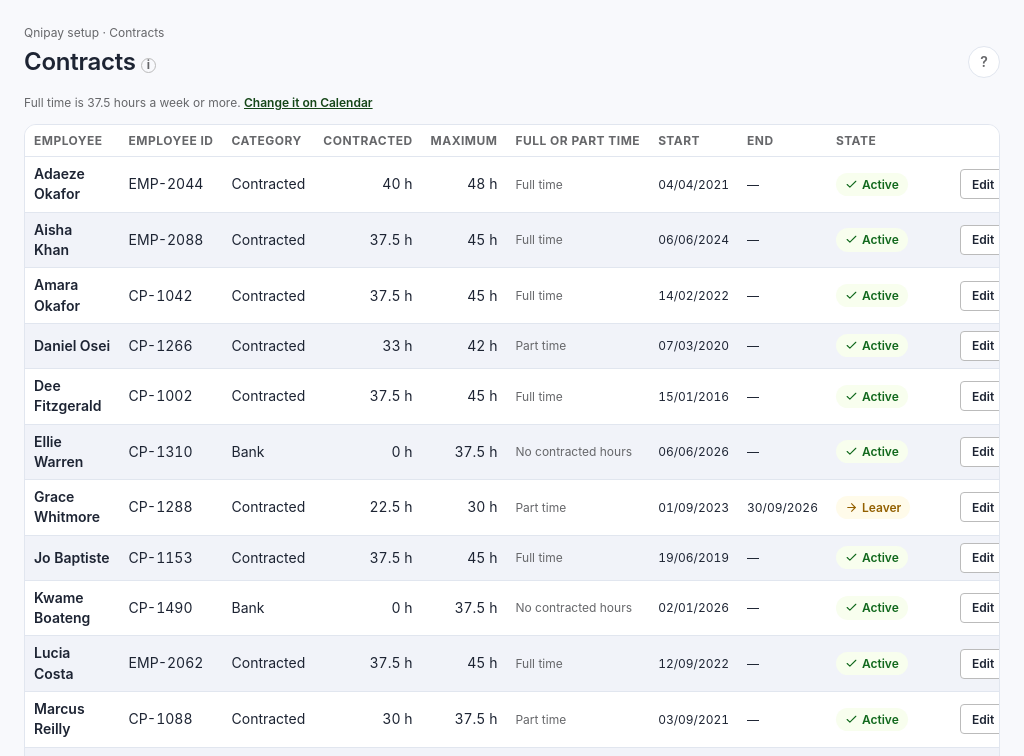
Test case: the acon page offers a ? that opens its guide, section by section
Click the button "?": click(984, 62) [968, 46, 1000, 78]
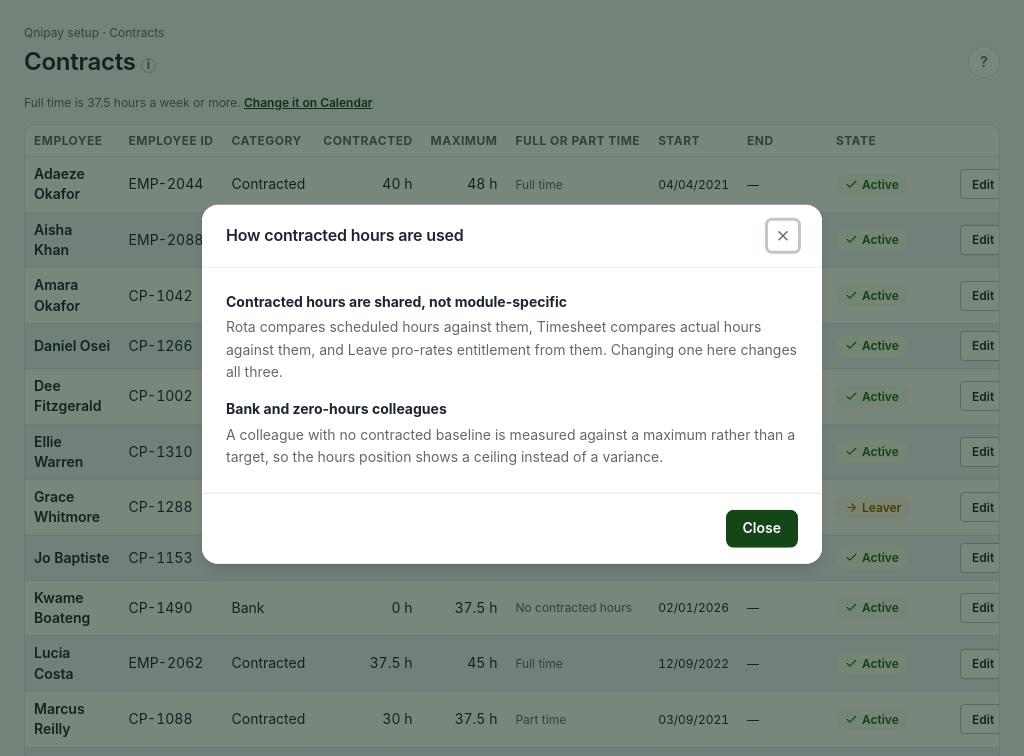
Check: the heading with test id "modal-title" reads "How contracted hours are used", box [226, 225, 464, 245]
Check: the heading "Contracted hours are shared, not module-specific" is shown, box [226, 293, 567, 310]
Check: the dialog shows "Rota compares scheduled hours against them, Timesheet compares actual hours against them, and Leave pro-rates entitlement from them. Changing one here changes a", box [226, 318, 797, 380]
Click the button with test id "guide-close": click(762, 528) [726, 509, 798, 547]
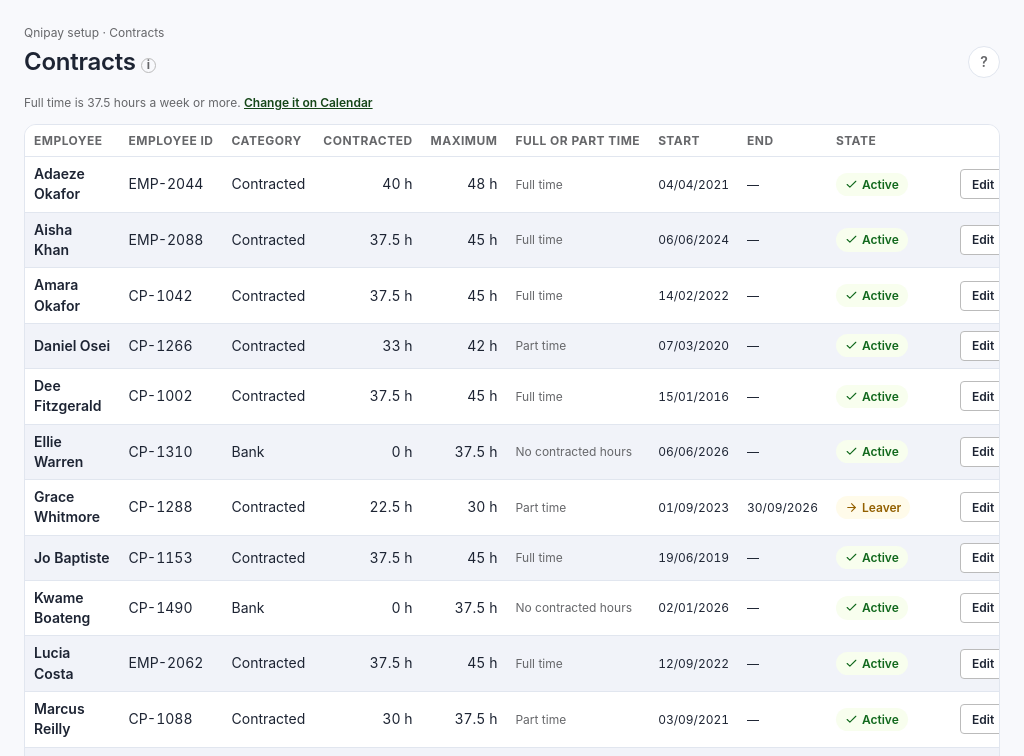
Check: the dialog is gone
